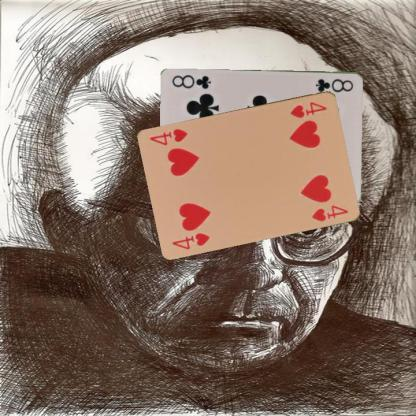4h: (170, 229, 211, 251), (288, 99, 328, 119)
8c: (313, 76, 355, 94)
